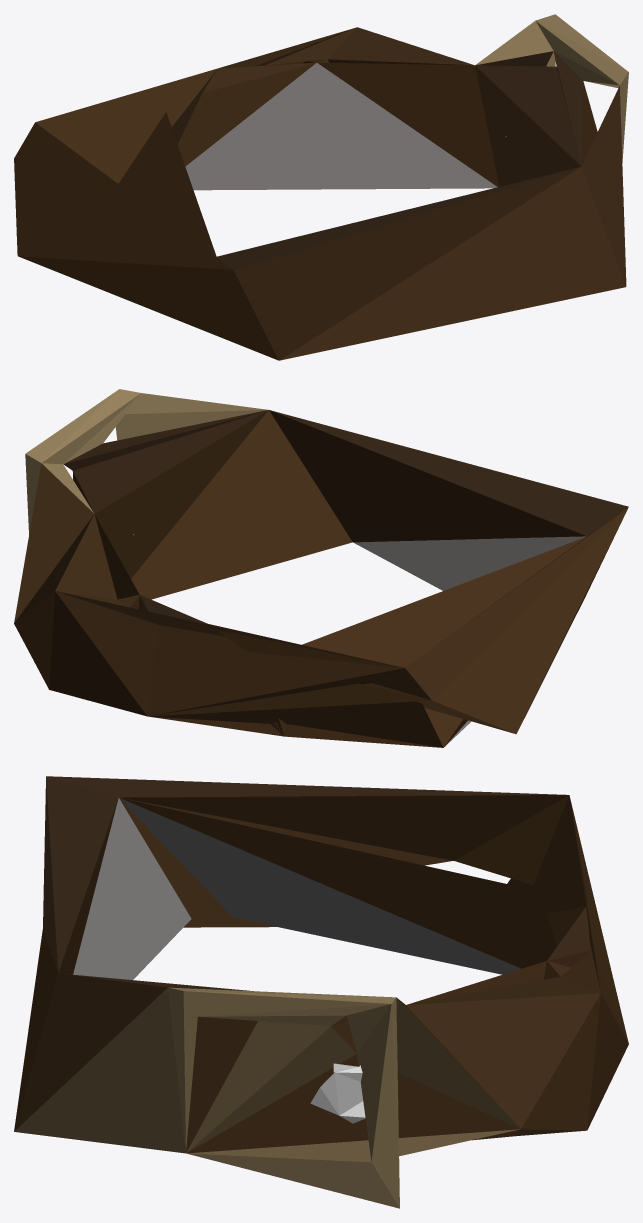
The model's file is aiwpn_belt_lo.glb.
The picture shows the model from 3 angles, top to bottom: view 1: azimuth 30°, elevation 25°; view 2: azimuth 150°, elevation 25°; view 3: azimuth 270°, elevation 25°; orthographic projection. The views are drawn at different scales.
Parts seen in each view (by area): view 1: ca_aiwpn_belt_lo; view 2: ca_aiwpn_belt_lo; view 3: ca_aiwpn_belt_lo.
Boxes of the visible parts, x1,y1,x2,y2 form: ca_aiwpn_belt_lo: [14, 14, 628, 360]; ca_aiwpn_belt_lo: [14, 389, 628, 747]; ca_aiwpn_belt_lo: [14, 776, 628, 1208].
Bounding box in the file's own units: 0.5328 × 0.1745 × 0.4447.
